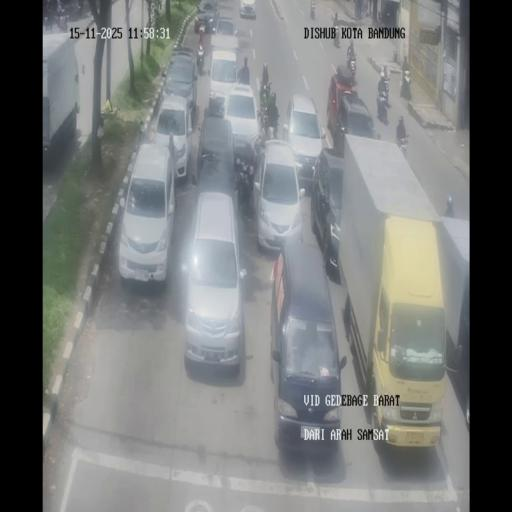3: (337, 135, 462, 447), (42, 34, 80, 164)
car: (271, 245, 343, 453), (182, 190, 247, 370), (118, 141, 175, 285), (314, 148, 346, 278), (281, 92, 325, 186), (221, 81, 262, 166), (153, 95, 192, 182), (332, 84, 377, 154), (165, 47, 196, 90), (193, 0, 220, 34), (214, 15, 236, 37), (239, 0, 256, 18)
truck: (236, 163, 251, 210), (254, 134, 265, 175), (400, 67, 412, 101), (376, 94, 389, 125), (259, 102, 270, 136), (196, 39, 205, 76), (268, 116, 280, 139), (260, 80, 270, 107), (347, 52, 357, 75), (398, 138, 408, 158), (58, 12, 68, 32), (44, 8, 53, 30), (334, 22, 340, 48), (381, 64, 389, 82), (362, 0, 368, 17), (56, 0, 63, 14), (310, 3, 315, 20), (77, 0, 83, 12), (378, 10, 382, 23)
